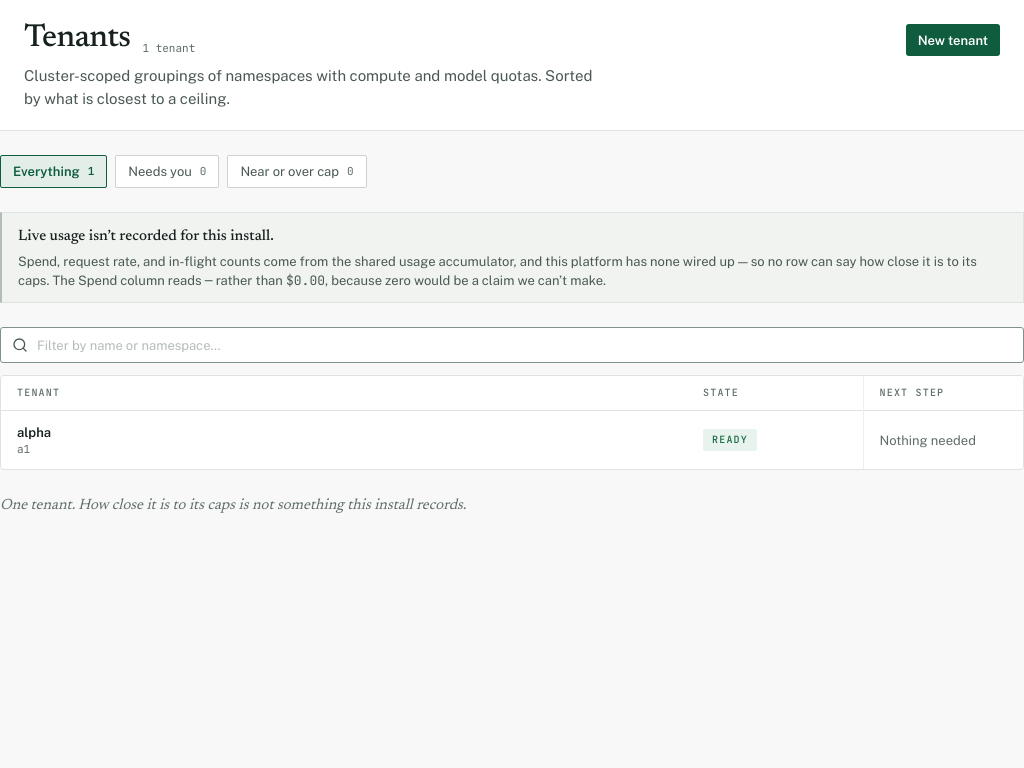
TenantsPage › hides the live-usage line when no state-layer is configured (501)
This screenshot has width=1024, height=768.
What coordinates should you click on to do the following:
click the text "alpha"
I would click on:
 (34, 432)
Its box is 1,410 -> 1023,469.
(page scrolled)
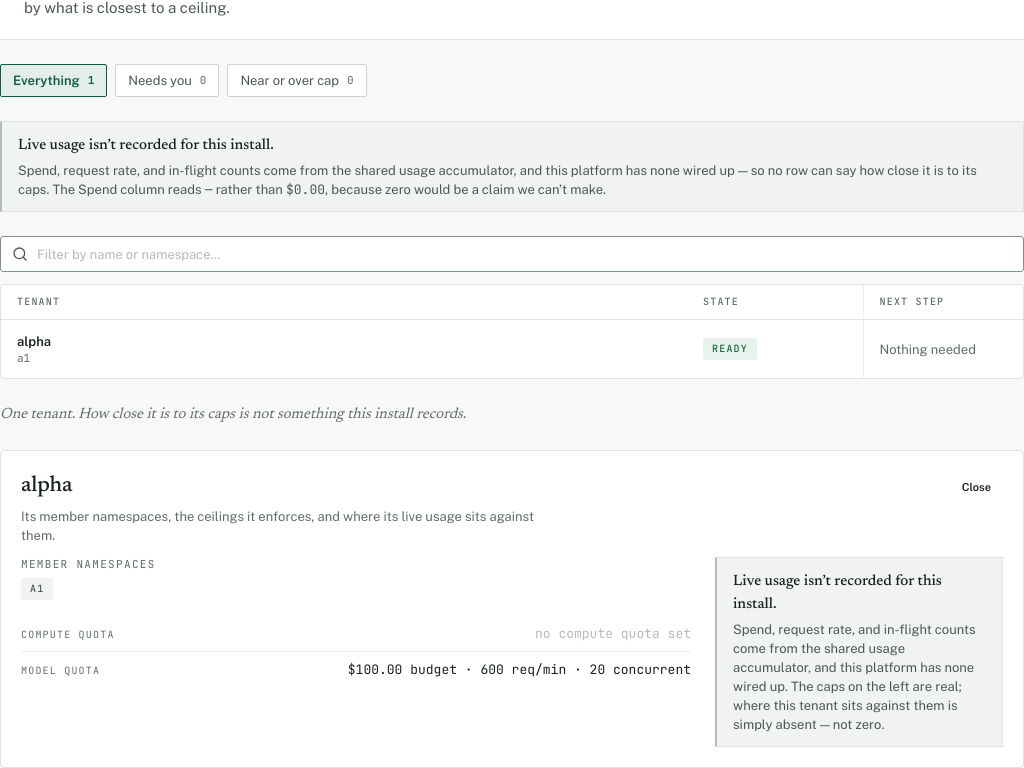
Now the text "$100.00 budget · 600 req/min · 20 concurrent" is shown, box 348,660 -> 691,679
